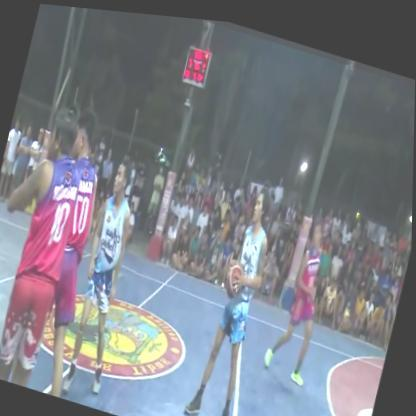basketball: (220, 253, 247, 302)
